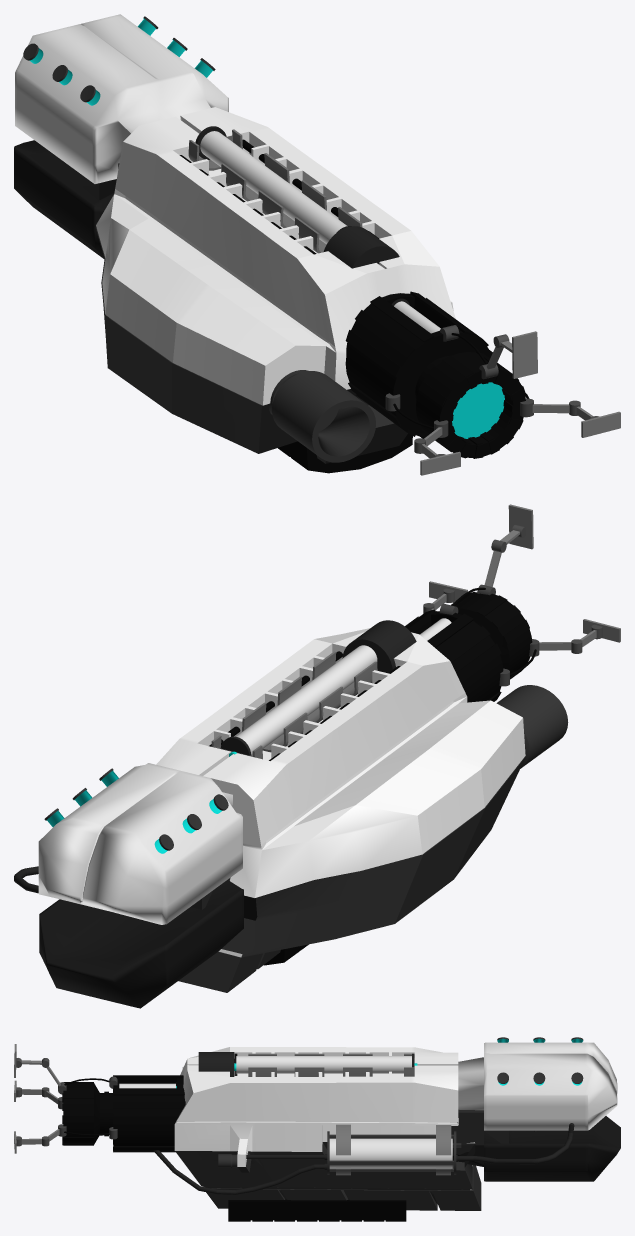
File: MUAD Device 1.fbx
3 renders of one model, top to bottom at view 1: azimuth 30°, elevation 25°; view 2: azimuth 150°, elevation 25°; view 3: azimuth 270°, elevation 25°, orthographic. The views are drawn at different scales.
Parts seen in each view (by area): view 1: Cube; view 2: Cube; view 3: Cube, Cube.001.
Part boxes in pixels (x1,y1,x2,y2): Cube: (14, 14, 620, 475); Cube: (14, 504, 620, 1008); Cube: (14, 1037, 620, 1221); Cube.001: (451, 1109, 536, 1145).
Size of the model in its own units: 188 by 162 by 540.
